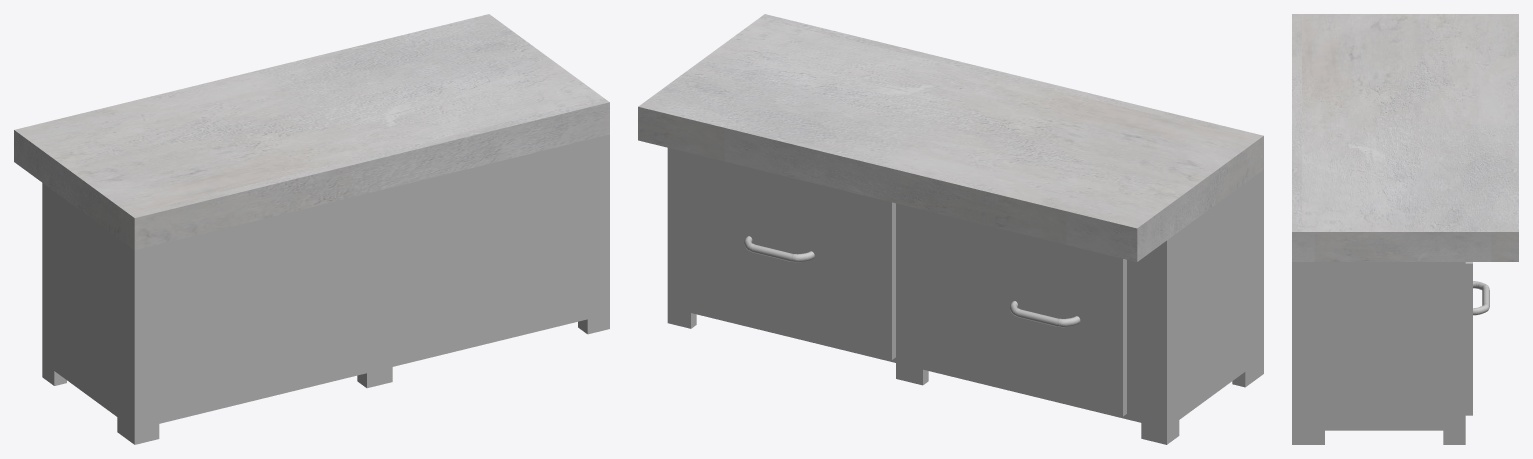
Rendered from Countertop1.fbx.
The picture shows the model from 3 angles, left to right: view 1: azimuth 30°, elevation 25°; view 2: azimuth 150°, elevation 25°; view 3: azimuth 270°, elevation 25°; orthographic projection. The views are drawn at different scales.
Visible parts, largest first — view 1: Cube; view 2: Cube, Cylinder, Cylinder.001; view 3: Cube, Cylinder.
Boxes of the visible parts, left/top/right/bottom form: Cube: left=14, top=14, right=609, bottom=444; Cube: left=638, top=14, right=1263, bottom=444; Cylinder: left=744, top=236, right=814, bottom=262; Cylinder.001: left=1009, top=301, right=1080, bottom=327; Cube: left=1292, top=14, right=1518, bottom=444; Cylinder: left=1473, top=281, right=1489, bottom=315.
Bounding box in the file's own units: 1390 × 634 × 611.
